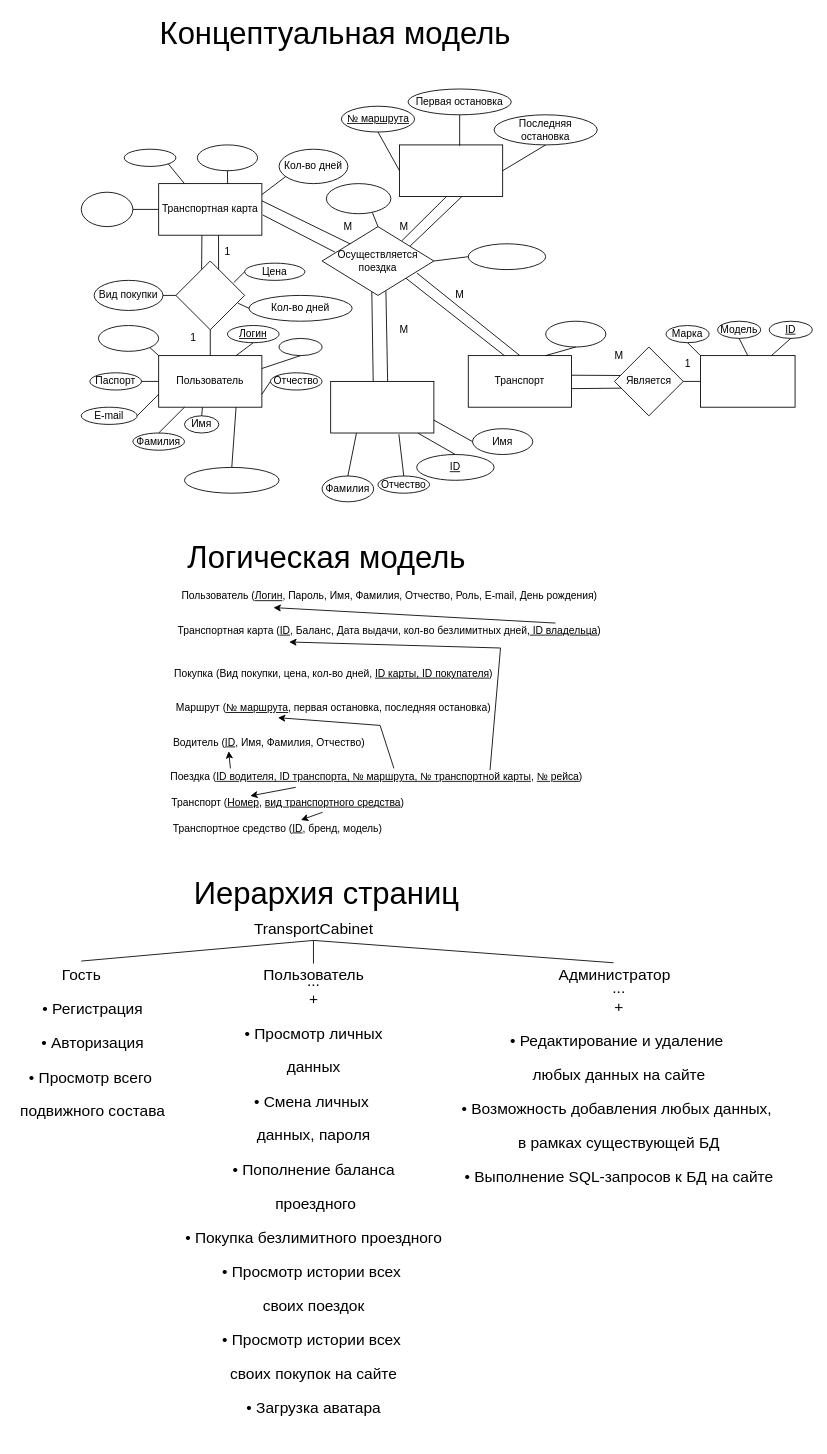
This 827x1454 diagram has some shape labels left out. Each missing label, with the centre of its shape:
ID карты: point 106,209
Баланс: point 149,157
Водитель: point 382,407
Время оплаты: point 358,198
Дата выдачи: point 227,157
День рождения: point 231,480
Маршрут: point 451,170
Номер: point 575,333
Пароль: point 128,338
Пополняет: point 210,295
Роль: point 300,347
Транспортное средство: point 747,381
№ рейса: point 506,256
